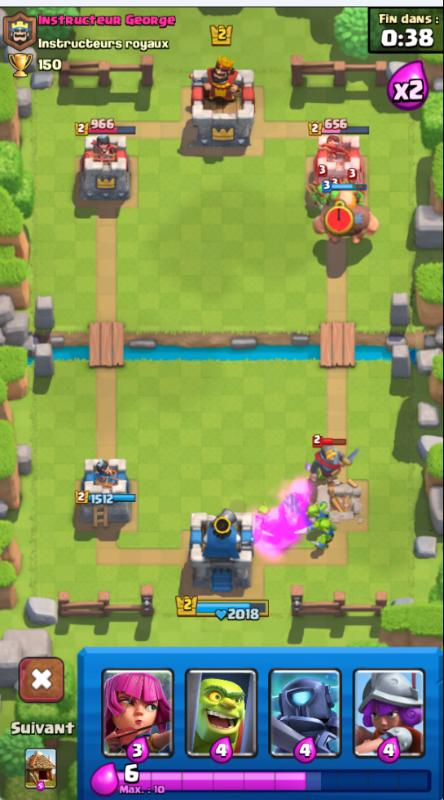chevalier: (302, 431, 359, 485)
geant: (313, 183, 379, 245)
gobelin: (250, 503, 276, 541), (311, 519, 338, 551)
gobelin_lances: (307, 181, 334, 211), (343, 180, 367, 209), (329, 181, 342, 210)
